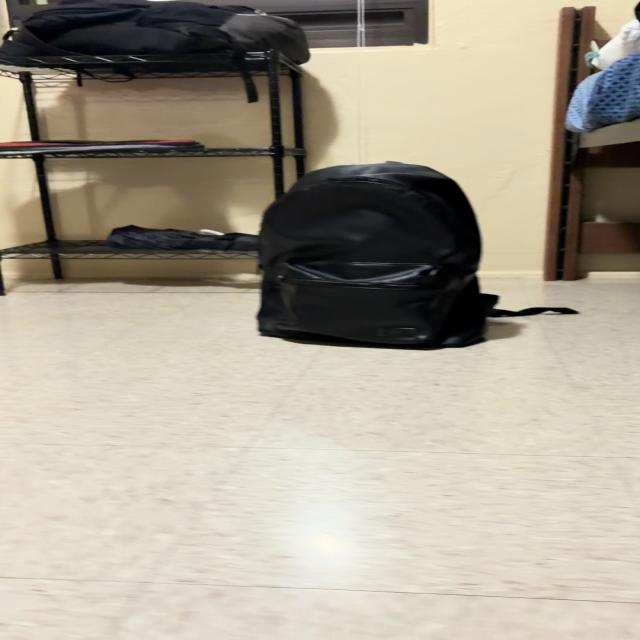backpack: (258, 163, 576, 347), (0, 0, 309, 101), (82, 60, 96, 74)
